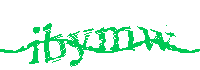b: (42, 22, 67, 64)
i: (29, 26, 42, 66)
m: (96, 26, 137, 54)
w: (137, 27, 175, 52)
y: (68, 28, 93, 69)
